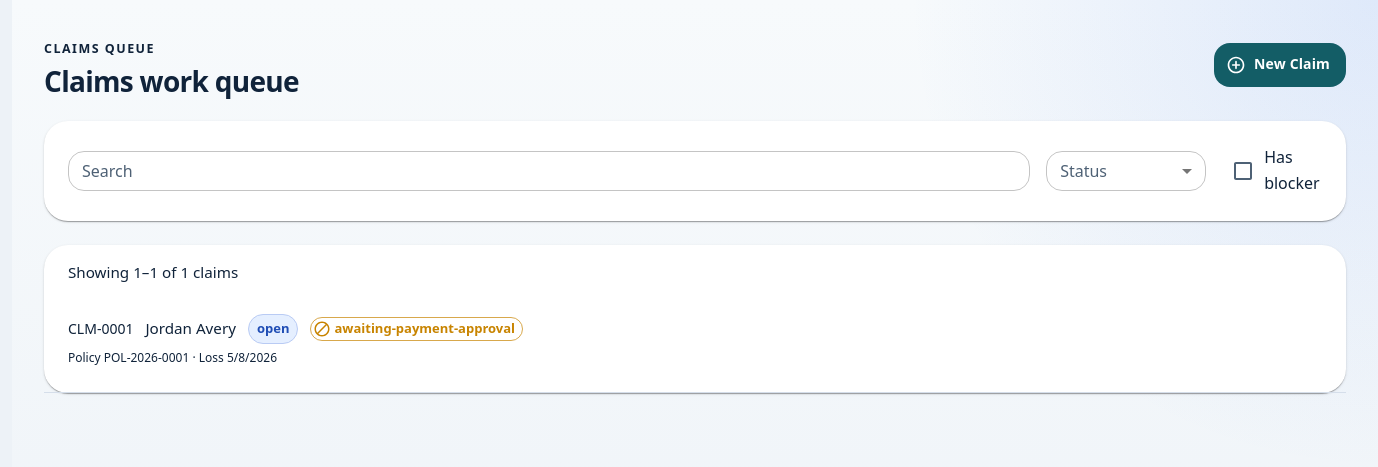
Test case: ClaimsQueuePage › updates the URL and refetches when the blocker checkbox is toggled
Expected: the heading "CLM-0001" is shown, [68,318,133,340]
Click the checkbox labelled "Has blocker". click: (1272, 171)
box: [1222,145,1322,197]
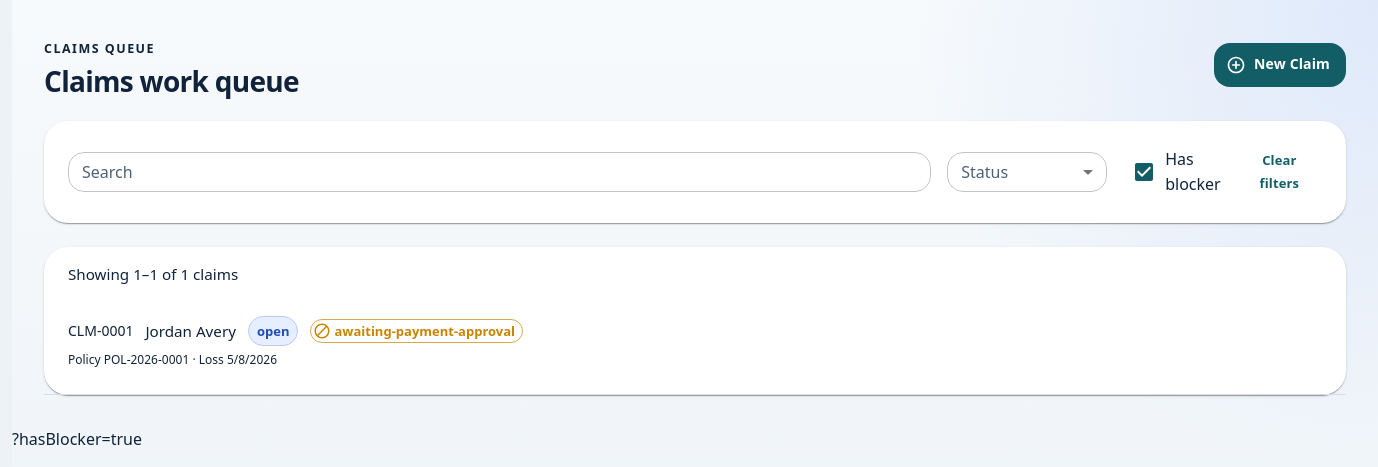
Expected: the text with test id "location-search" reads "?hasBlocker=true", [12,428,142,450]
